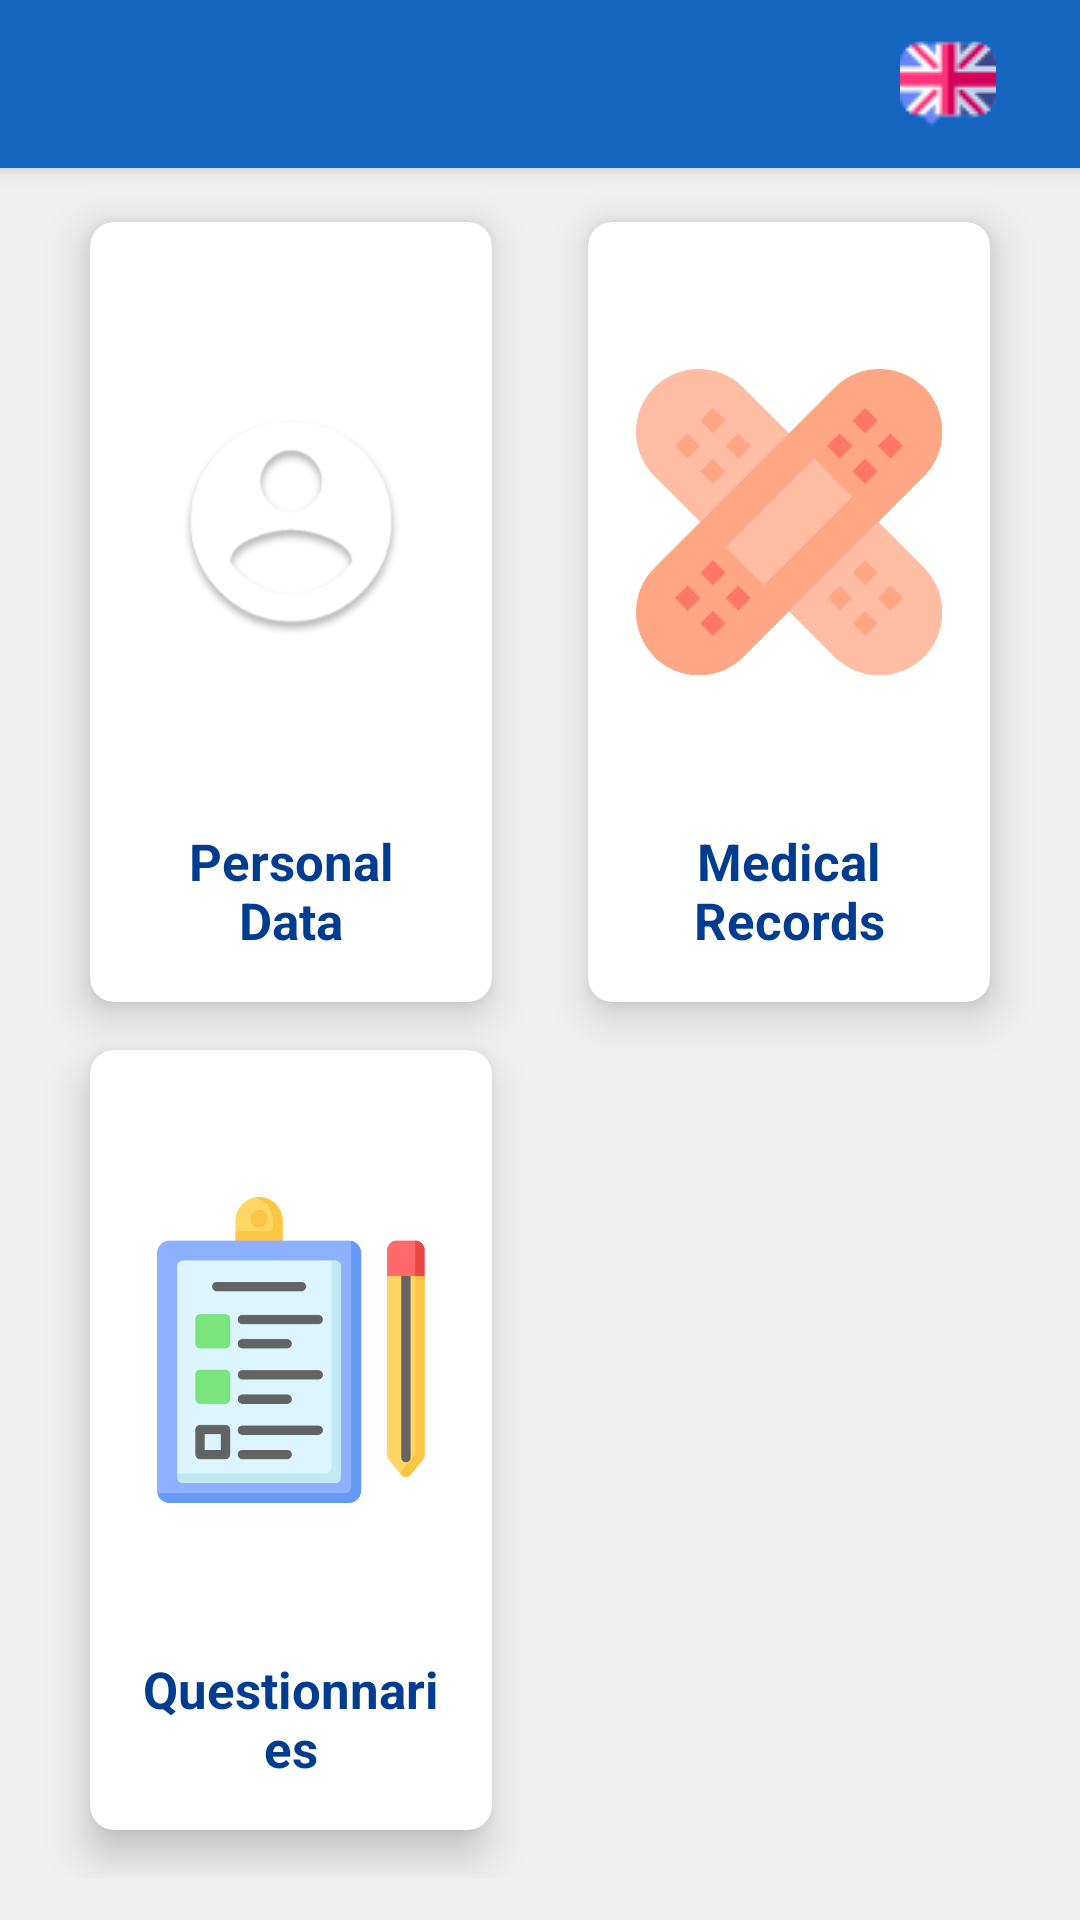

Icon click points for this 1080px x 1920px phone screenshot, format (x,y):
lang: (948,83)
